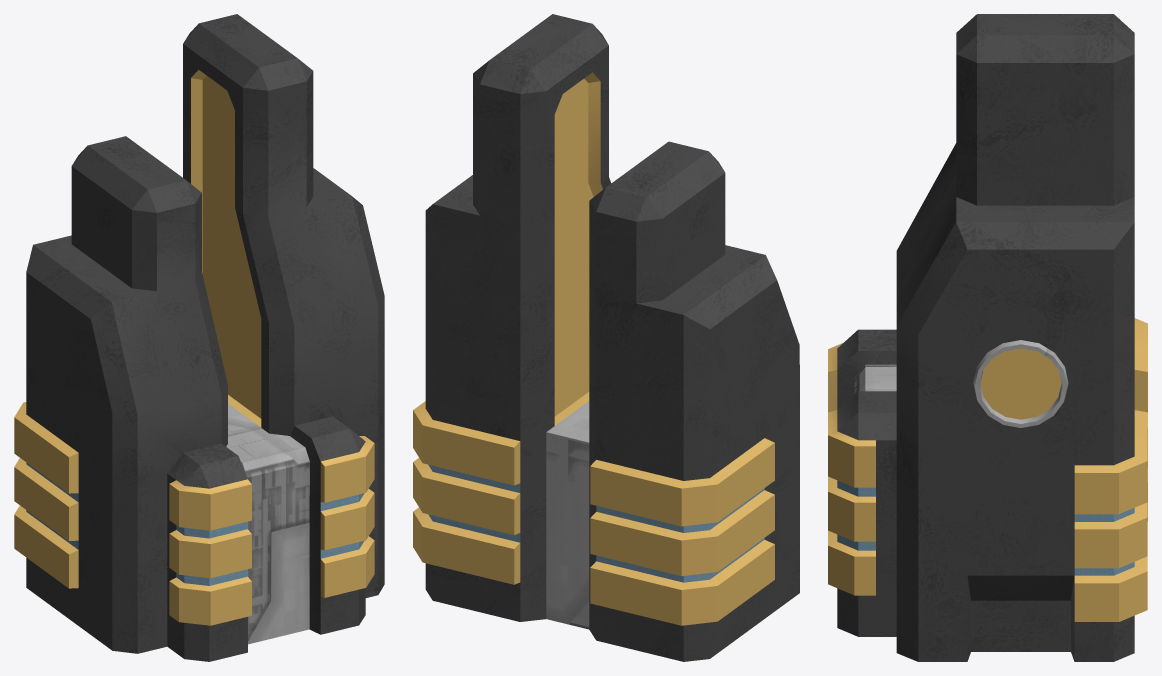
File: NB_Sience_Building_1.fbx
3 renders of one model, left to right at view 1: azimuth 30°, elevation 25°; view 2: azimuth 150°, elevation 25°; view 3: azimuth 270°, elevation 25°, orthographic. The views are drawn at different scales.
Visible parts, largest first — view 1: NB_Sience_Building_1; view 2: NB_Sience_Building_1; view 3: NB_Sience_Building_1.
Part boxes in pixels (x1,y1,x2,y2): NB_Sience_Building_1: (14, 14, 384, 661); NB_Sience_Building_1: (413, 14, 799, 661); NB_Sience_Building_1: (828, 14, 1147, 661).
Size of the model in its own units: 322 by 550 by 269.
